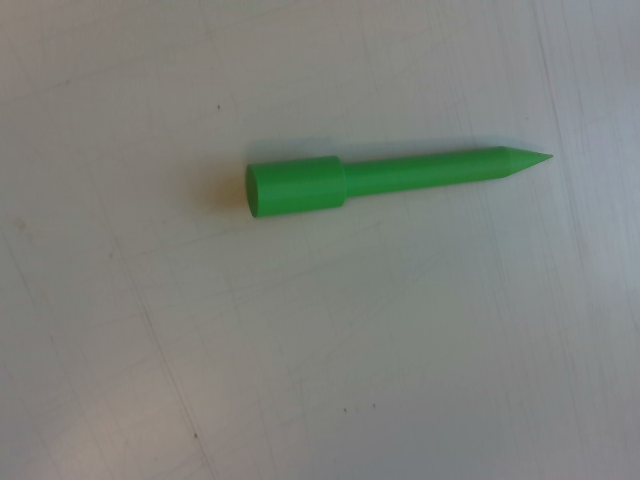Probe: (240, 139, 560, 225)
